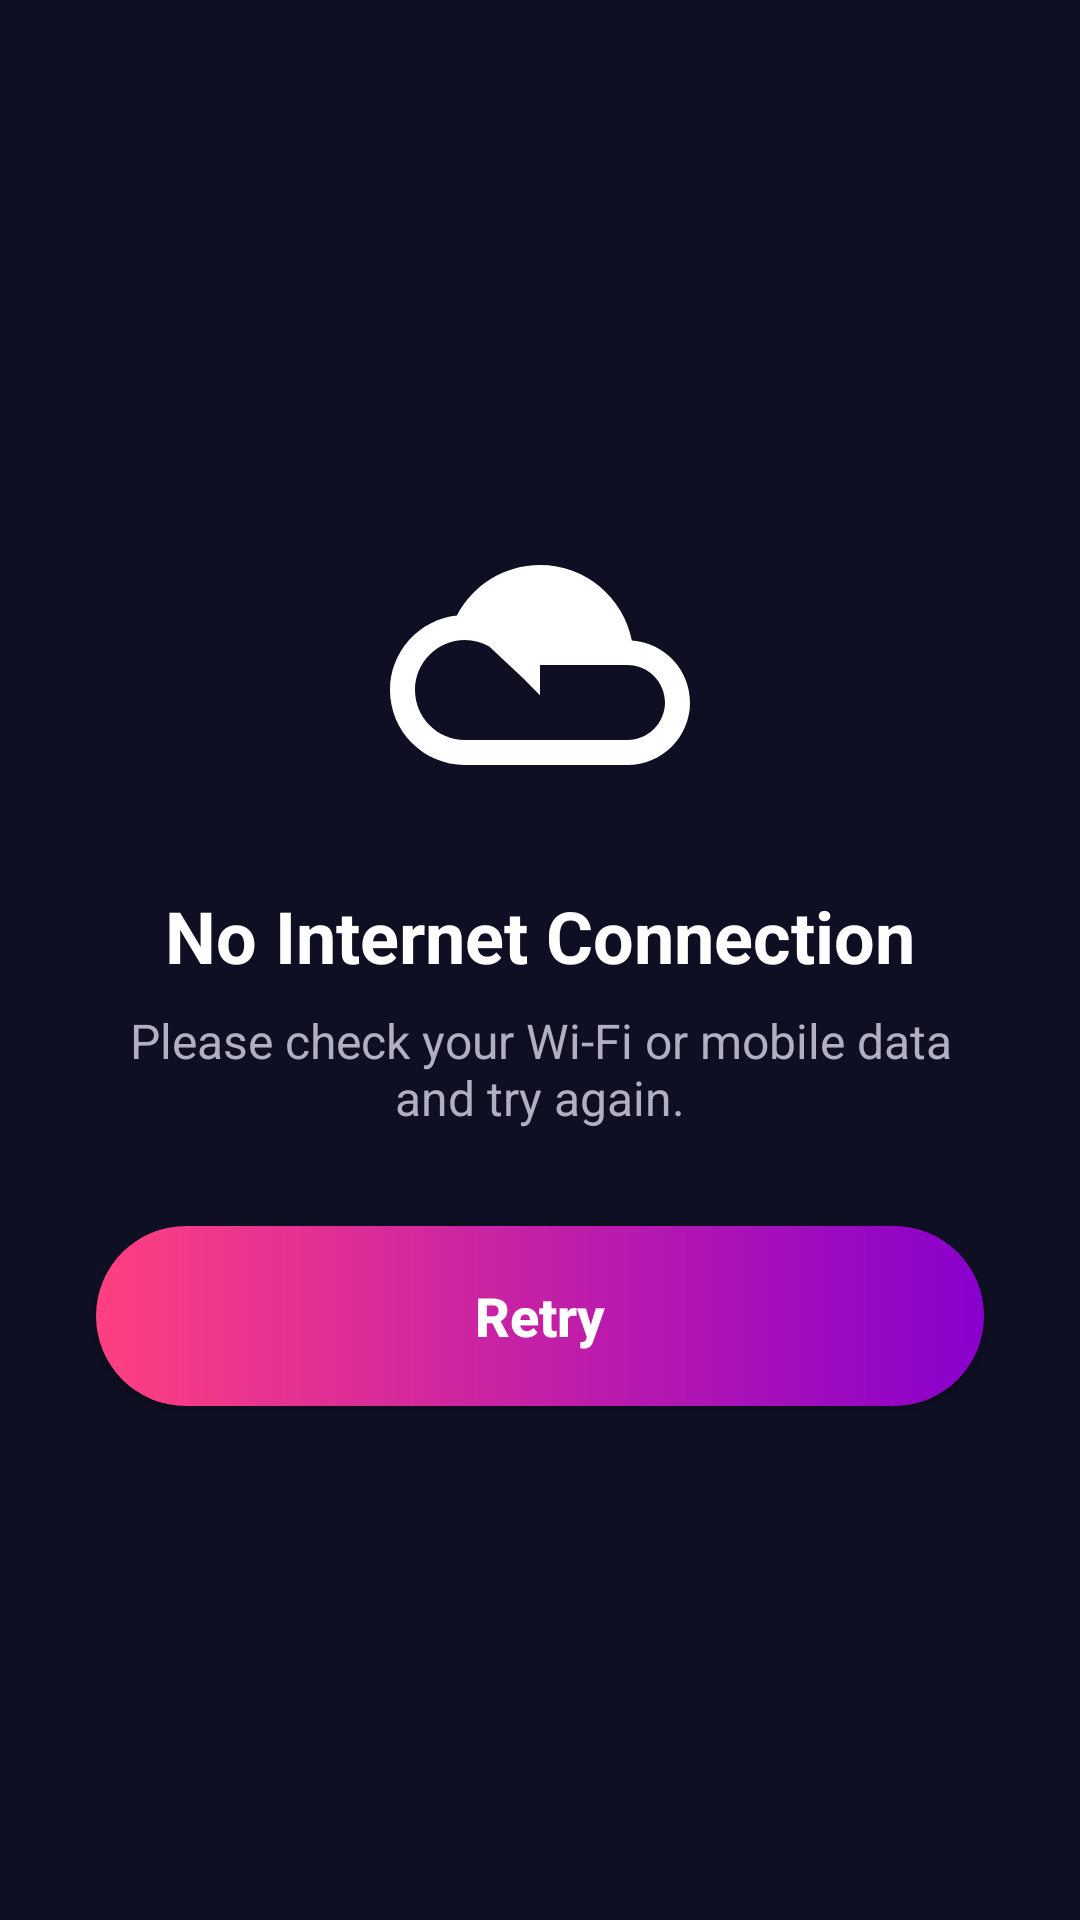

Where to tap for icons on this 1080 × 1920 app screen, as (x=x, y=y):
cloud off: (x=540, y=665)
